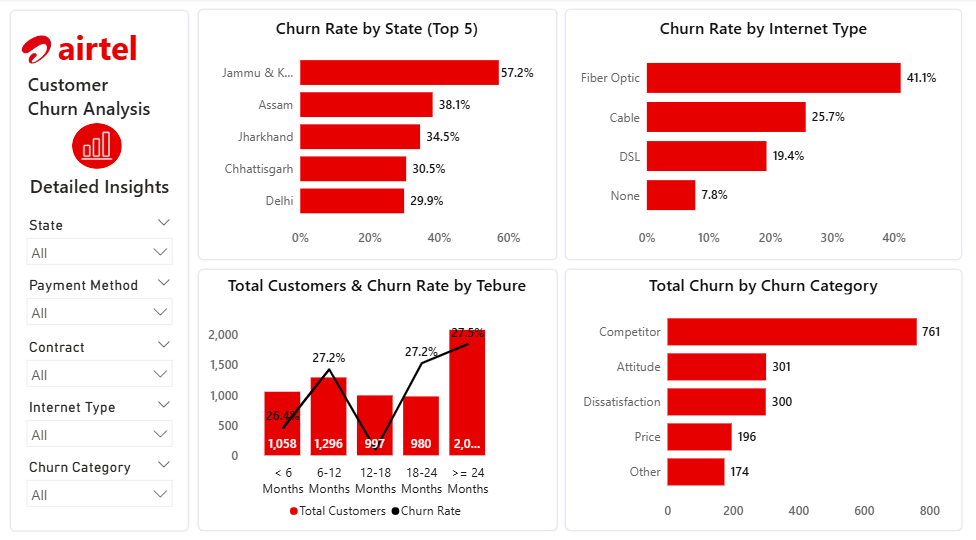

This screenshot's page, from the dashboard's own definition file:
{"tool":"powerbi","page":{"name":"Detailed Insights","canvas":[1280,720],"ordinal":1},"visuals":[{"type":"shape","box":[13.8,13.8,236.7,685.4],"z":0},{"type":"shape","box":[260.1,353.7,473.5,345.5],"z":1000},{"type":"lineStackedColumnComboChart","title":"Total Customers & Churn Rate by Tebure","fields":{"Category":["Mapping_TenureGrp.Tebure Group"],"Y":["All Measures.Total Customers"],"Y2":["All Measures.Churn Rate"]},"box":[269.8,360.6,452.8,331.7],"z":2000},{"type":"shape","box":[260.5,13.1,473,331.2],"z":3000},{"type":"clusteredBarChart","title":"Churn Rate by State (Top 5)","fields":{"Y":["All Measures.Churn Rate"],"Category":["prod_churn.State"]},"box":[269.7,23.6,452.9,310.3],"z":4000},{"type":"shape","box":[740.5,353.7,523,345.5],"z":5000},{"type":"clusteredBarChart","title":"Total Churn by Churn Category","fields":{"Category":["prod_churn.Churn_Category"],"Y":["All Measures.Total Churn"]},"box":[751.5,360.6,501,331.7],"z":6000},{"type":"shape","box":[740.9,13.1,522.3,331.2],"z":7000},{"type":"clusteredBarChart","title":"Churn Rate by Internet Type","fields":{"Category":["prod_churn.Internet_Type"],"Y":["All Measures.Churn Rate"]},"box":[751.4,23.6,501.4,310.3],"z":8000},{"type":"textbox","box":[40,30,180,77.2],"z":9000},{"type":"textbox","box":[34,90,199,75.9],"z":10000},{"type":"textbox","box":[27.5,223.9,210.8,44.5],"z":11000},{"type":"image","box":[24.9,48.4,51.1,38],"z":12000},{"type":"slicer","fields":{"Values":["prod_churn.State"]},"box":[27.5,280.8,210.6,78.5],"z":13000},{"type":"slicer","fields":{"Values":["prod_churn.Payment_Method"]},"box":[27.5,359.2,210.6,78.5],"z":14000},{"type":"slicer","fields":{"Values":["prod_churn.Contract"]},"box":[27.5,440.4,210.6,78.5],"z":15000},{"type":"slicer","fields":{"Values":["prod_churn.Internet_Type"]},"box":[27.5,518.9,210.6,78.5],"z":16000},{"type":"slicer","fields":{"Values":["prod_churn.Churn_Category"]},"box":[27.5,597.3,210.6,78.5],"z":17000},{"type":"shape","box":[96.9,163.6,65.5,60.2],"z":18000},{"type":"image","box":[108.7,172.8,40.6,40.6],"z":19000}]}

Visuals, with their boxes in screenshot pixels (x1, y1, x2, y2), scaled from the page's 1280x720 canvas onto the 976x540 screenshot:
shape: x1=11, y1=10, x2=191, y2=524
shape: x1=198, y1=265, x2=559, y2=524
"Total Customers & Churn Rate by Tebure" lineStackedColumnComboChart: x1=206, y1=270, x2=551, y2=519
shape: x1=199, y1=10, x2=559, y2=258
"Churn Rate by State (Top 5)" clusteredBarChart: x1=206, y1=18, x2=551, y2=250
shape: x1=565, y1=265, x2=963, y2=524
"Total Churn by Churn Category" clusteredBarChart: x1=573, y1=270, x2=955, y2=519
shape: x1=565, y1=10, x2=963, y2=258
"Churn Rate by Internet Type" clusteredBarChart: x1=573, y1=18, x2=955, y2=250
textbox: x1=30, y1=22, x2=168, y2=80
textbox: x1=26, y1=68, x2=178, y2=124
textbox: x1=21, y1=168, x2=182, y2=201
image: x1=19, y1=36, x2=58, y2=65
slicer - prod_churn.State: x1=21, y1=211, x2=182, y2=269
slicer - prod_churn.Payment_Method: x1=21, y1=269, x2=182, y2=328
slicer - prod_churn.Contract: x1=21, y1=330, x2=182, y2=389
slicer - prod_churn.Internet_Type: x1=21, y1=389, x2=182, y2=448
slicer - prod_churn.Churn_Category: x1=21, y1=448, x2=182, y2=507
shape: x1=74, y1=123, x2=124, y2=168
image: x1=83, y1=130, x2=114, y2=160
